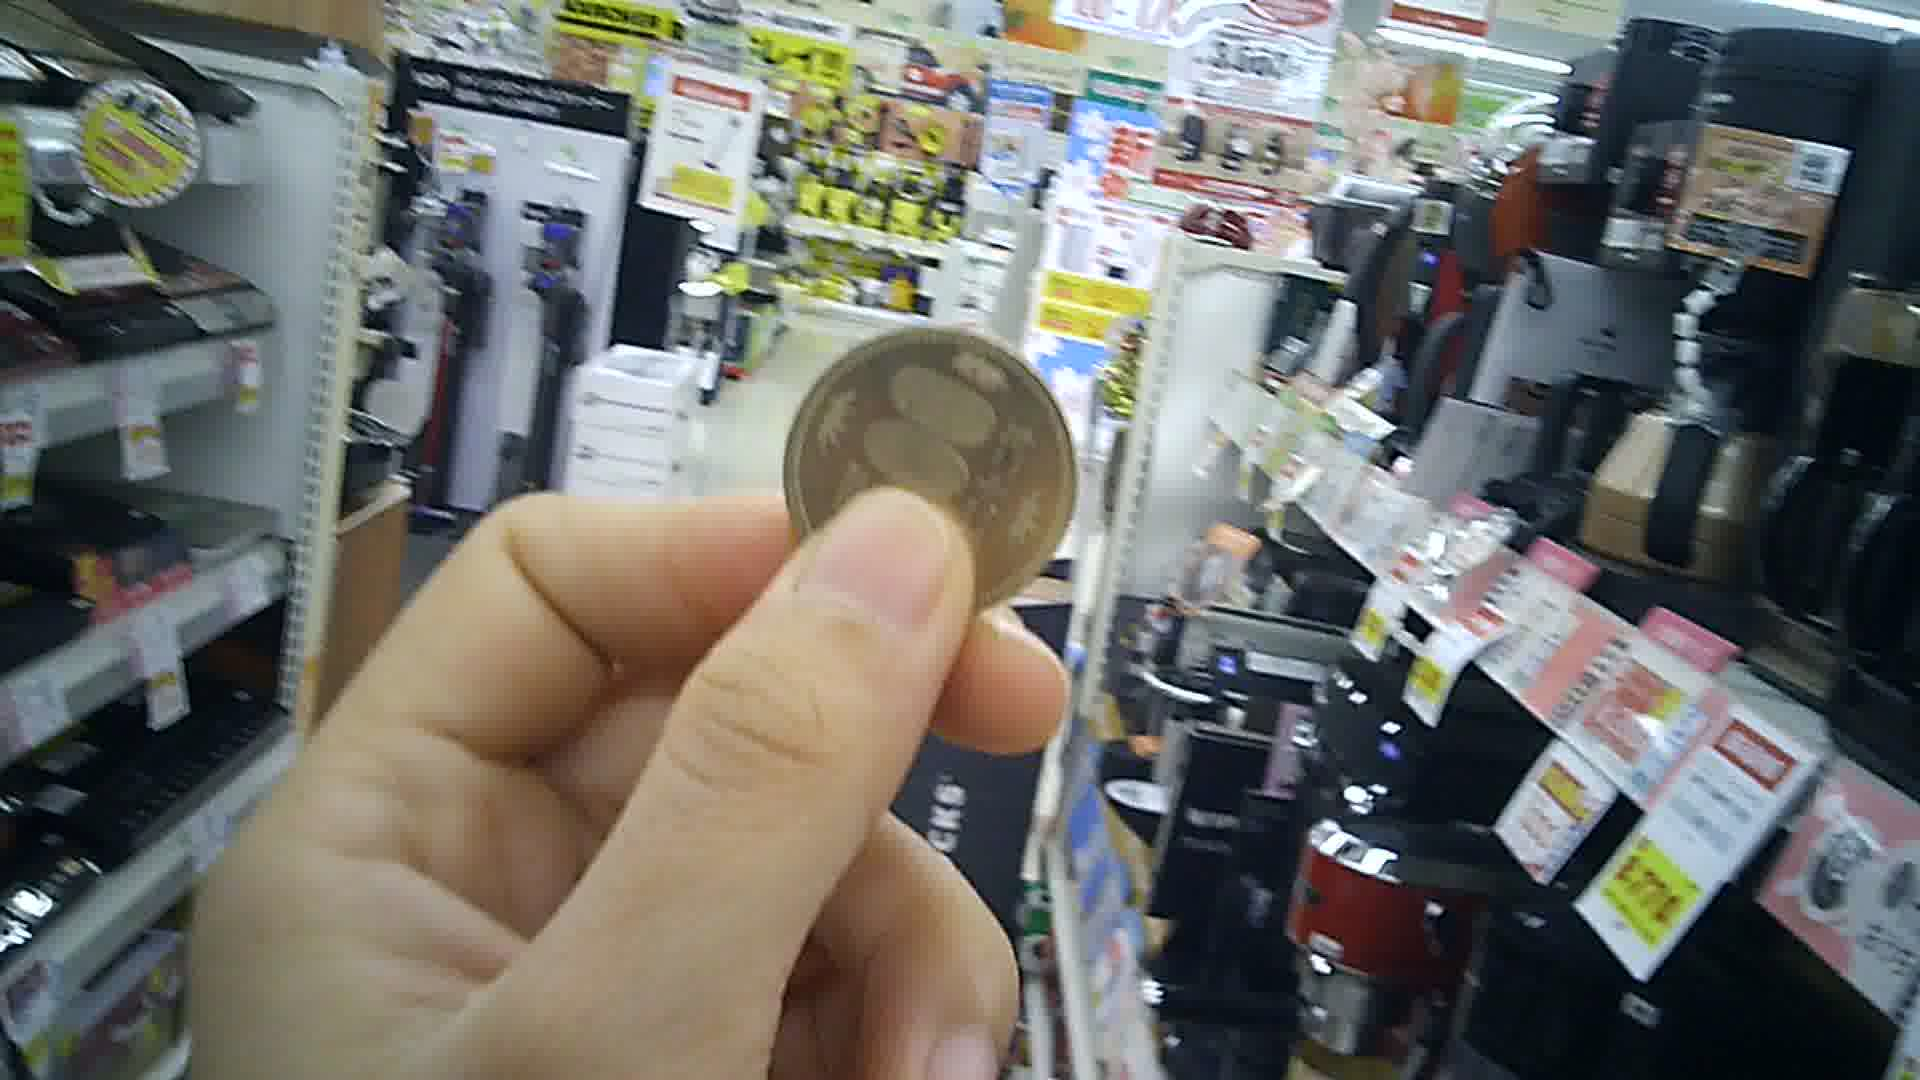500 Yen: (775, 320, 1087, 622)
